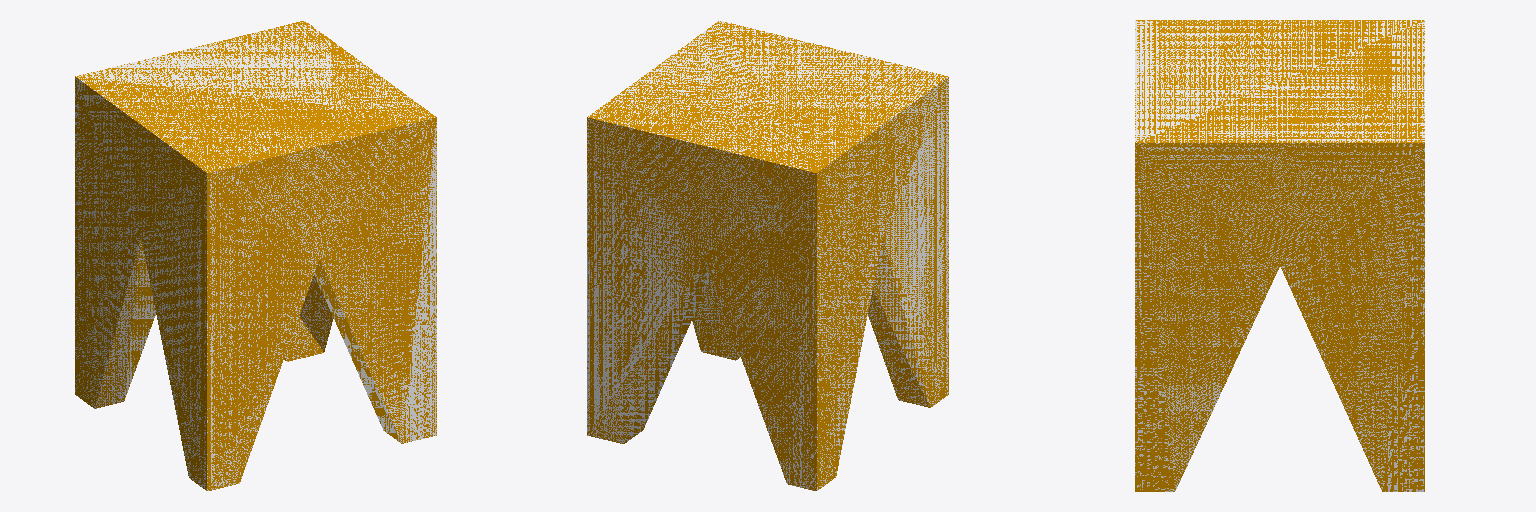
URDF robot description (my_object):
<?xml version="1.0" ?> 
<robot name="my_object" static="true">
  <link name="base_link">
  <inertial>
    <mass value="6.5" />
    <origin xyz="0 0 0.0" />
    <inertia ixx="0.0" ixy="0.0" ixz="0.0" iyy="0.0" iyz="0.0" izz="0.0"/>
  </inertial>
  <visual>
   <origin xyz="0 0 0.0" rpy="0 0 0" />
   <geometry>
     <mesh filename="package://cob_gazebo_objects/Media/models/table_bedside.dae"/>
   </geometry>
  </visual>
  <collision>
   <origin xyz="0 0 0" rpy="0 0 0" />
   <geometry>
     <mesh filename="package://cob_gazebo_objects/Media/models/table_bedside.dae"/>
   </geometry>
  </collision>     
  </link>

<gazebo reference="base_link">
  <mu1>1.0</mu1>
  <mu2>1.0</mu2>
  <kp>1000000.0</kp>
  <kd>1.0</kd>
</gazebo>

<gazebo>
	<static>true</static>
</gazebo>
</robot>

--- What the picture shows (computed from the rendered views, not written in the file) ---
The picture shows the robot from 3 angles, left to right: view 1: azimuth 30°, elevation 25°; view 2: azimuth 150°, elevation 25°; view 3: azimuth 270°, elevation 25°; orthographic projection.
Robot: my_object — 1 links, 0 joints (none); root link base_link; default pose: every joint at zero.
Links seen in each view (by area): view 1: base_link; view 2: base_link; view 3: base_link.
Boxes of the visible links, left/top/right/bottom form: base_link: left=75, top=21, right=436, bottom=490; base_link: left=587, top=21, right=948, bottom=490; base_link: left=1135, top=20, right=1424, bottom=491.
Size in the robot's own frame: 0.3403 by 0.3395 by 0.4506 metres.
1 mesh visuals loaded from 1 distinct referenced files (1 Collada DAE).